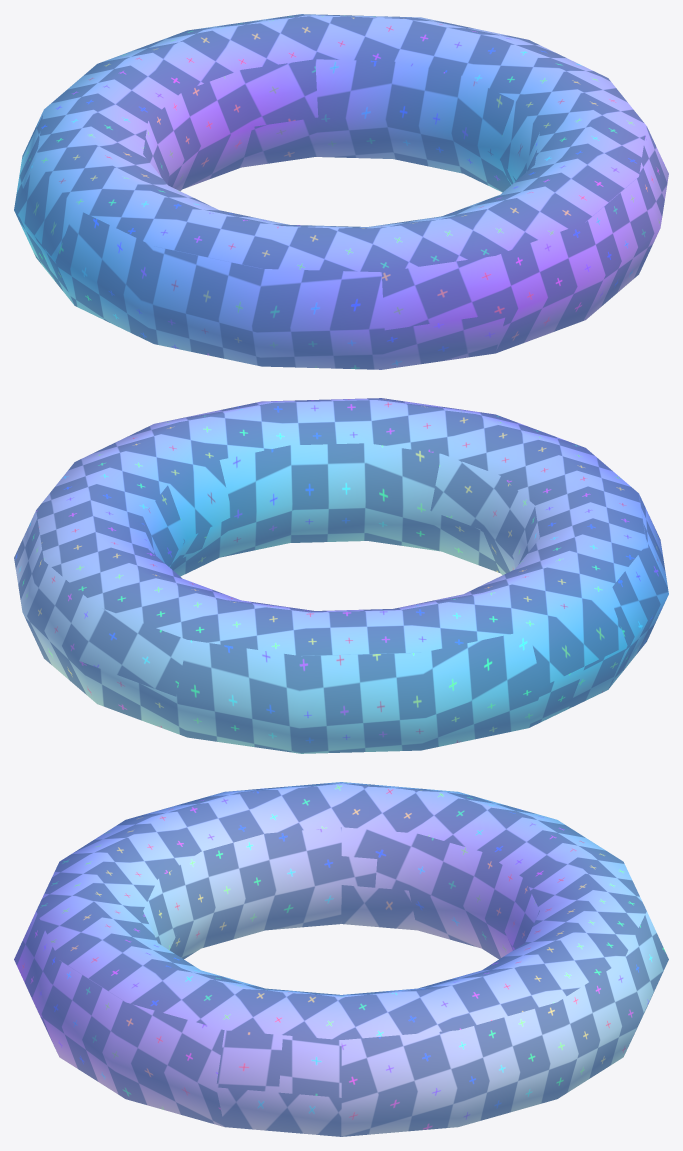
File: SuperToroid.gltf
3 renders of one model, top to bottom at view 1: azimuth 30°, elevation 25°; view 2: azimuth 150°, elevation 25°; view 3: azimuth 270°, elevation 25°, orthographic.
Parts seen in each view (by area): view 1: SuperToroid; view 2: SuperToroid; view 3: SuperToroid.
Boxes of the visible parts, x1,y1,x2,y2 form: SuperToroid: (14, 14, 668, 369); SuperToroid: (14, 398, 668, 753); SuperToroid: (14, 782, 668, 1136).
Bounding box in the file's own units: 2.6 × 0.6 × 2.6.
Materials: 1 (1 with a texture image).
